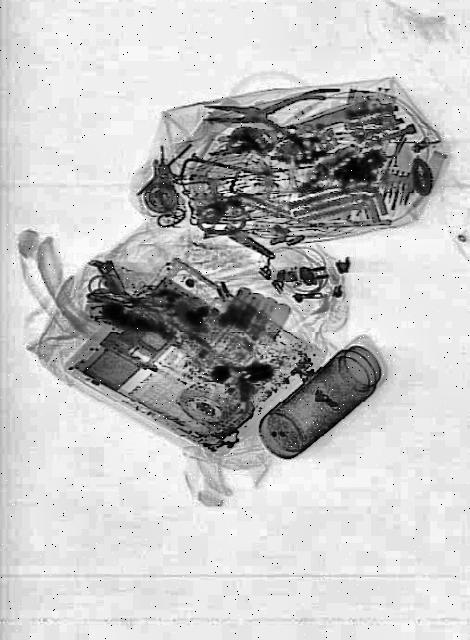Pliers: (202, 91, 326, 149)
